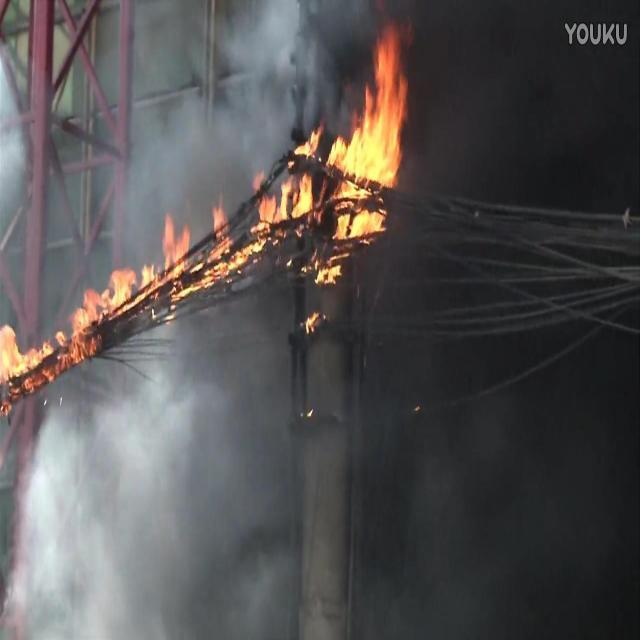Fire: (1, 19, 408, 422)
Smoke: (0, 0, 377, 640)
